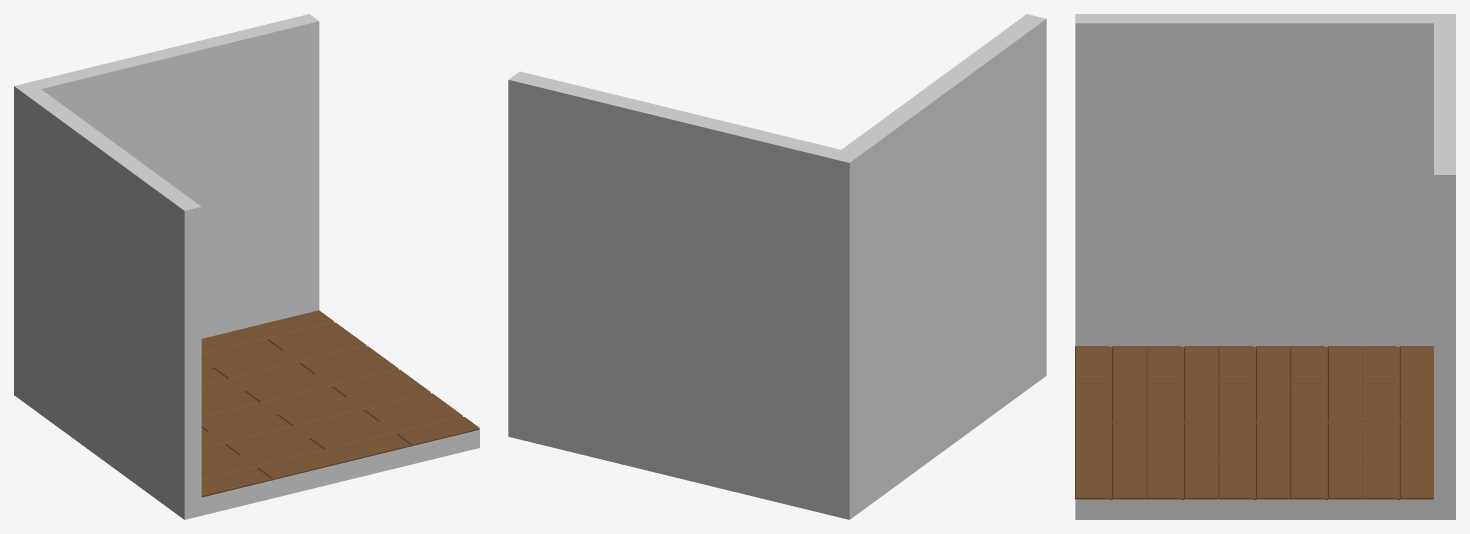
File: miRoom.glb
3 views of the same model, side by side, from view 1: azimuth 30°, elevation 25°; view 2: azimuth 150°, elevation 25°; view 3: azimuth 270°, elevation 25° (orthographic). The views are drawn at different scales.
Visible parts, largest first — view 1: Cube, Floor; view 2: Cube; view 3: Cube, Floor.
Part boxes in pixels (x1=…): Cube: x1=14, y1=14, x2=479, y2=519; Floor: x1=201, y1=310, x2=479, y2=497; Cube: x1=508, y1=14, x2=1046, y2=519; Cube: x1=1075, y1=14, x2=1455, y2=519; Floor: x1=1075, y1=346, x2=1433, y2=499.
Size of the model in its own units: 4 by 4 by 4.
